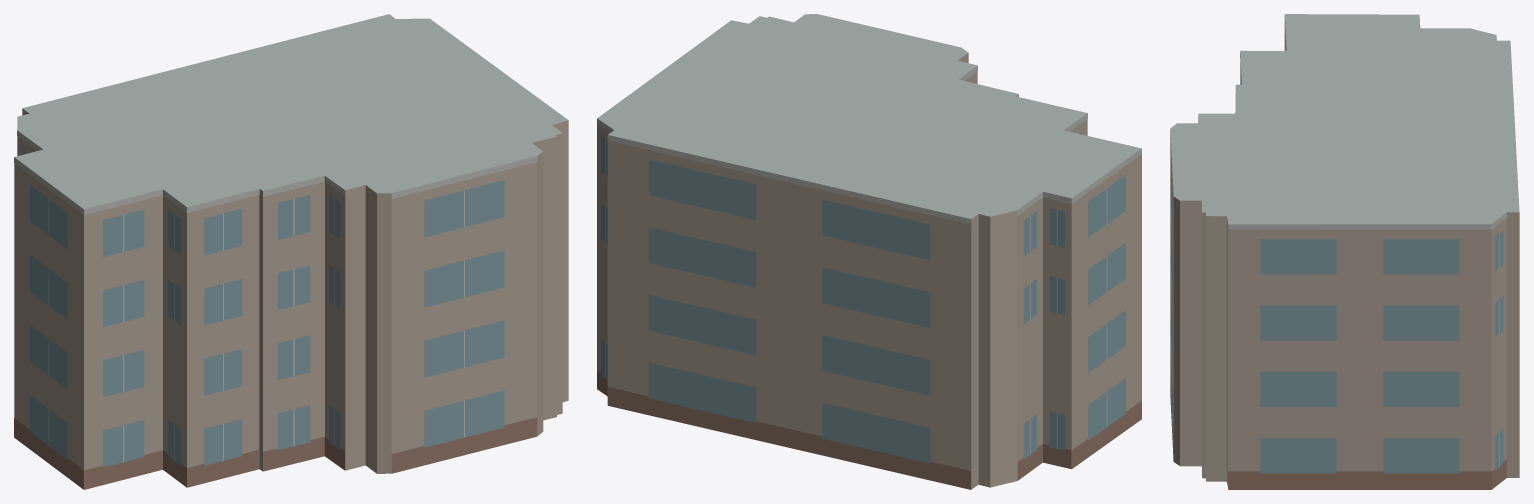
Rendered from survey-upis-32673412.glb.
The picture shows the model from 3 angles, left to right: view 1: azimuth 30°, elevation 25°; view 2: azimuth 150°, elevation 25°; view 3: azimuth 270°, elevation 25°; orthographic projection. The views are drawn at different scales.
Parts seen in each view (by area): view 1: survey-upis-32673412.tmp; view 2: survey-upis-32673412.tmp; view 3: survey-upis-32673412.tmp.
Part boxes in pixels (x1=…): survey-upis-32673412.tmp: x1=14, y1=14, x2=568, y2=489; survey-upis-32673412.tmp: x1=597, y1=14, x2=1141, y2=489; survey-upis-32673412.tmp: x1=1170, y1=14, x2=1519, y2=489.
Bounding box in the file's own units: 19.88 × 11.7 × 13.95.
